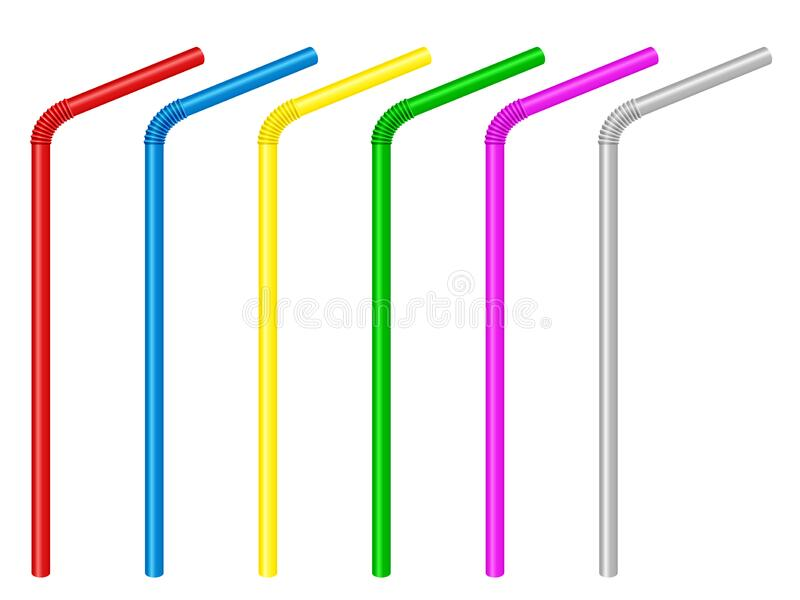Drinking Straw: (594, 42, 781, 582), (26, 42, 207, 583)
